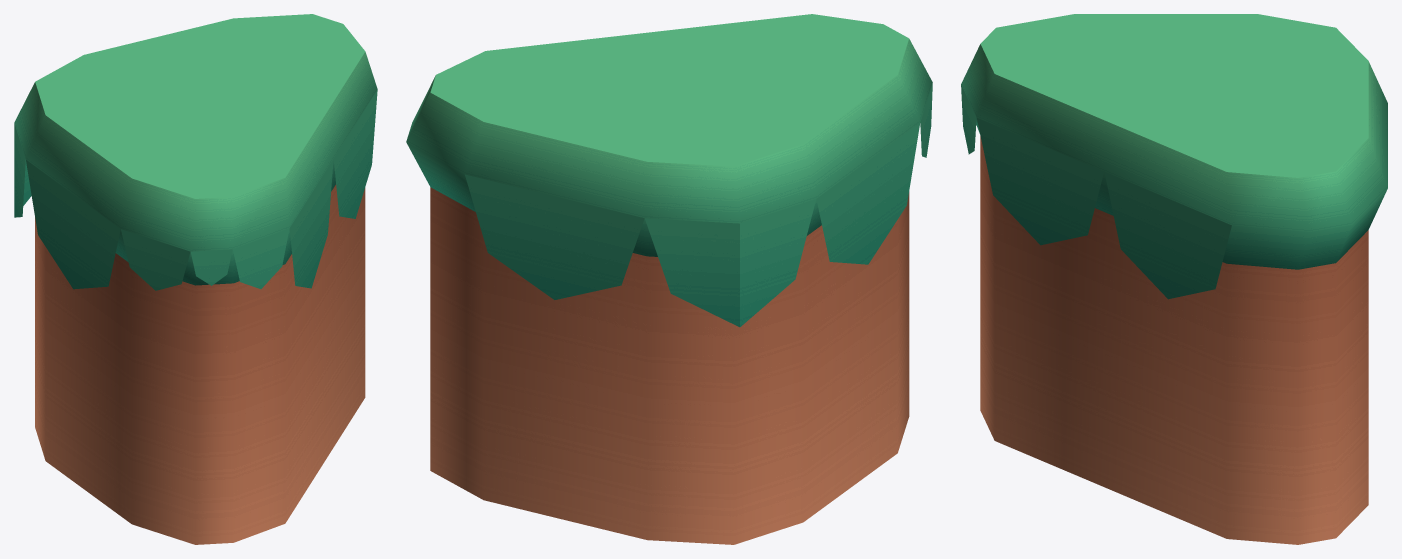
Rendered from block-grass-corner-overhang.glb.
The picture shows the model from 3 angles, left to right: view 1: azimuth 30°, elevation 25°; view 2: azimuth 150°, elevation 25°; view 3: azimuth 270°, elevation 25°; orthographic projection. The views are drawn at different scales.
Visible parts, largest first — view 1: block-grass-corner-overhang; view 2: block-grass-corner-overhang; view 3: block-grass-corner-overhang.
Boxes of the visible parts, x1,y1,x2,y2 form: block-grass-corner-overhang: (14, 14, 377, 544); block-grass-corner-overhang: (406, 14, 932, 544); block-grass-corner-overhang: (961, 14, 1387, 544).
Size of the model in its own units: 1.05 by 1 by 1.05.
1 material, 1 textured.
